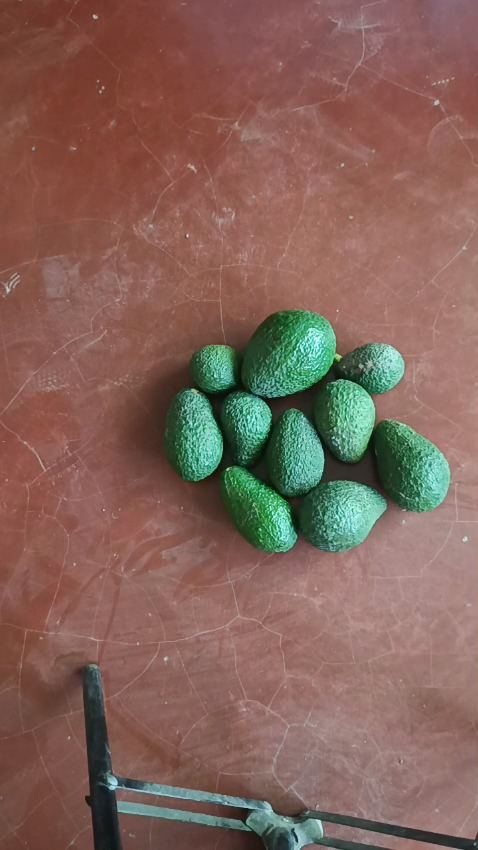Primera: (239, 309, 337, 398)
Segunda: (372, 420, 451, 511), (296, 479, 388, 551), (220, 466, 297, 552), (163, 387, 223, 481), (313, 378, 376, 463), (264, 409, 324, 496)
Tercera: (218, 390, 273, 468), (334, 342, 405, 395), (189, 343, 241, 395)
